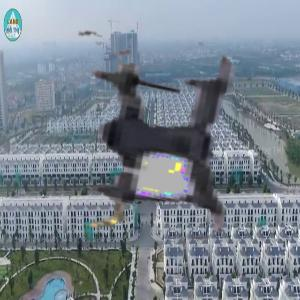drone: (41, 19, 281, 259)
